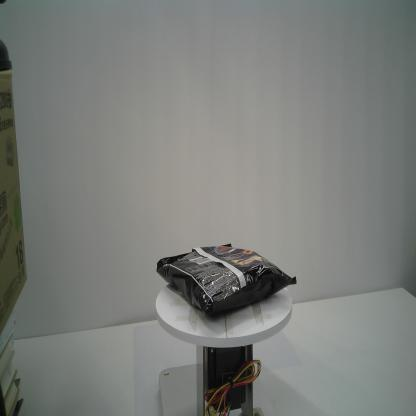Instant Noodles: (156, 243, 298, 318)
